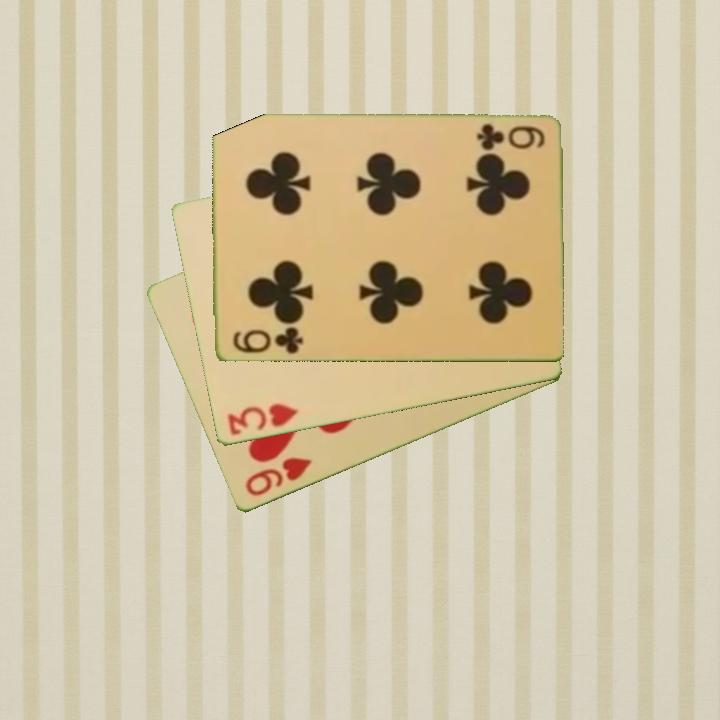3h: (223, 400, 301, 439)
6c: (228, 324, 305, 357), (473, 120, 547, 152)
9h: (241, 454, 315, 500)
